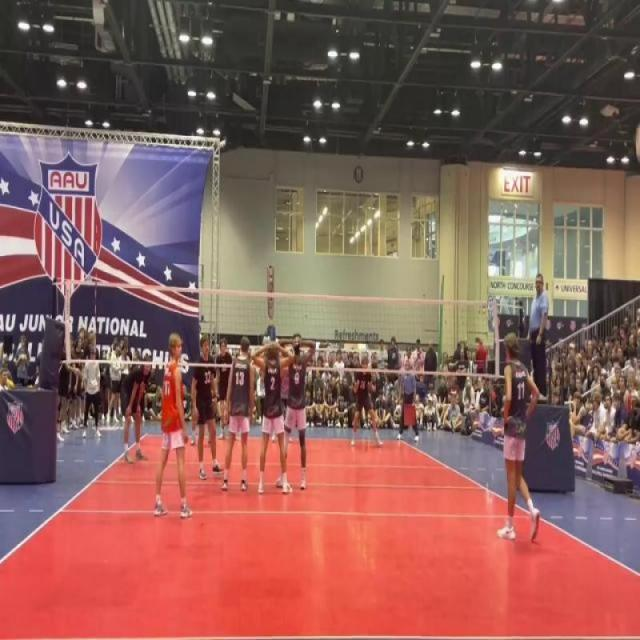volleyball: (632, 116, 640, 168)
